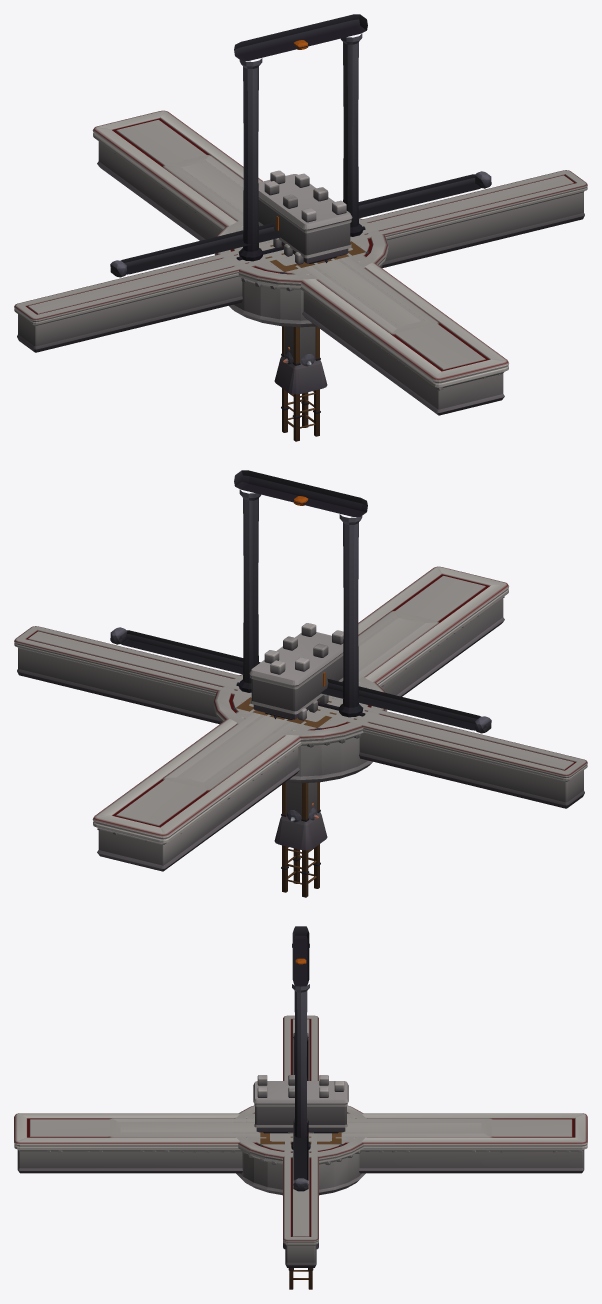
The model's file is fortress-4-MThC8Dhq.glb.
3 views of the same model, one above another, from view 1: azimuth 30°, elevation 25°; view 2: azimuth 150°, elevation 25°; view 3: azimuth 270°, elevation 25° (orthographic). The views are drawn at different scales.
Visible parts, largest first — view 1: block_6x2x47.400000000000006#1, block_44x2x3#1, pressFrame_6x6x2x7#0, block_4x2x32_grate#1, spout_2x6#0, disc_12x1.5#1, mount_14.4#0, support_1_square#0, truss_14#0; view 2: block_6x2x47.400000000000006#1, block_44x2x3#1, pressFrame_6x6x2x7#0, block_4x2x32_grate#1, spout_2x6#0, disc_12x1.5#1, mount_14.4#0, support_1_square#0, truss_14#0; view 3: block_6x2x47.400000000000006#1, block_4x2x32_grate#1, block_44x2x3#1, disc_12x1.5#1, spout_2x6#0, pressFrame_6x6x2x7#0, mount_14.4#0.
Boxes of the visible parts, left/top/right/bottom form: block_6x2x47.400000000000006#1: left=92, top=110, right=509, bottom=415; block_44x2x3#1: left=14, top=170, right=587, bottom=352; pressFrame_6x6x2x7#0: left=234, top=14, right=367, bottom=261; block_4x2x32_grate#1: left=162, top=154, right=439, bottom=335; spout_2x6#0: left=258, top=170, right=352, bottom=264; disc_12x1.5#1: left=214, top=218, right=388, bottom=327; mount_14.4#0: left=110, top=171, right=491, bottom=277; support_1_square#0: left=274, top=326, right=327, bottom=394; truss_14#0: left=281, top=326, right=320, bottom=441; block_6x2x47.400000000000006#1: left=92, top=566, right=509, bottom=871; block_44x2x3#1: left=14, top=626, right=587, bottom=808; pressFrame_6x6x2x7#0: left=234, top=470, right=367, bottom=717; block_4x2x32_grate#1: left=162, top=610, right=439, bottom=791; spout_2x6#0: left=249, top=623, right=343, bottom=720; disc_12x1.5#1: left=213, top=674, right=387, bottom=783; mount_14.4#0: left=110, top=627, right=491, bottom=733; support_1_square#0: left=274, top=782, right=327, bottom=850; truss_14#0: left=281, top=782, right=320, bottom=897; block_6x2x47.400000000000006#1: left=14, top=1113, right=587, bottom=1173; block_4x2x32_grate#1: left=109, top=1118, right=492, bottom=1137; block_44x2x3#1: left=283, top=1015, right=318, bottom=1267; disc_12x1.5#1: left=233, top=1105, right=368, bottom=1195; spout_2x6#0: left=253, top=1075, right=348, bottom=1133; pressFrame_6x6x2x7#0: left=291, top=926, right=310, bottom=1149; mount_14.4#0: left=293, top=1033, right=308, bottom=1191.
Size of the model in its own units: 44 by 30.4 by 47.4.
